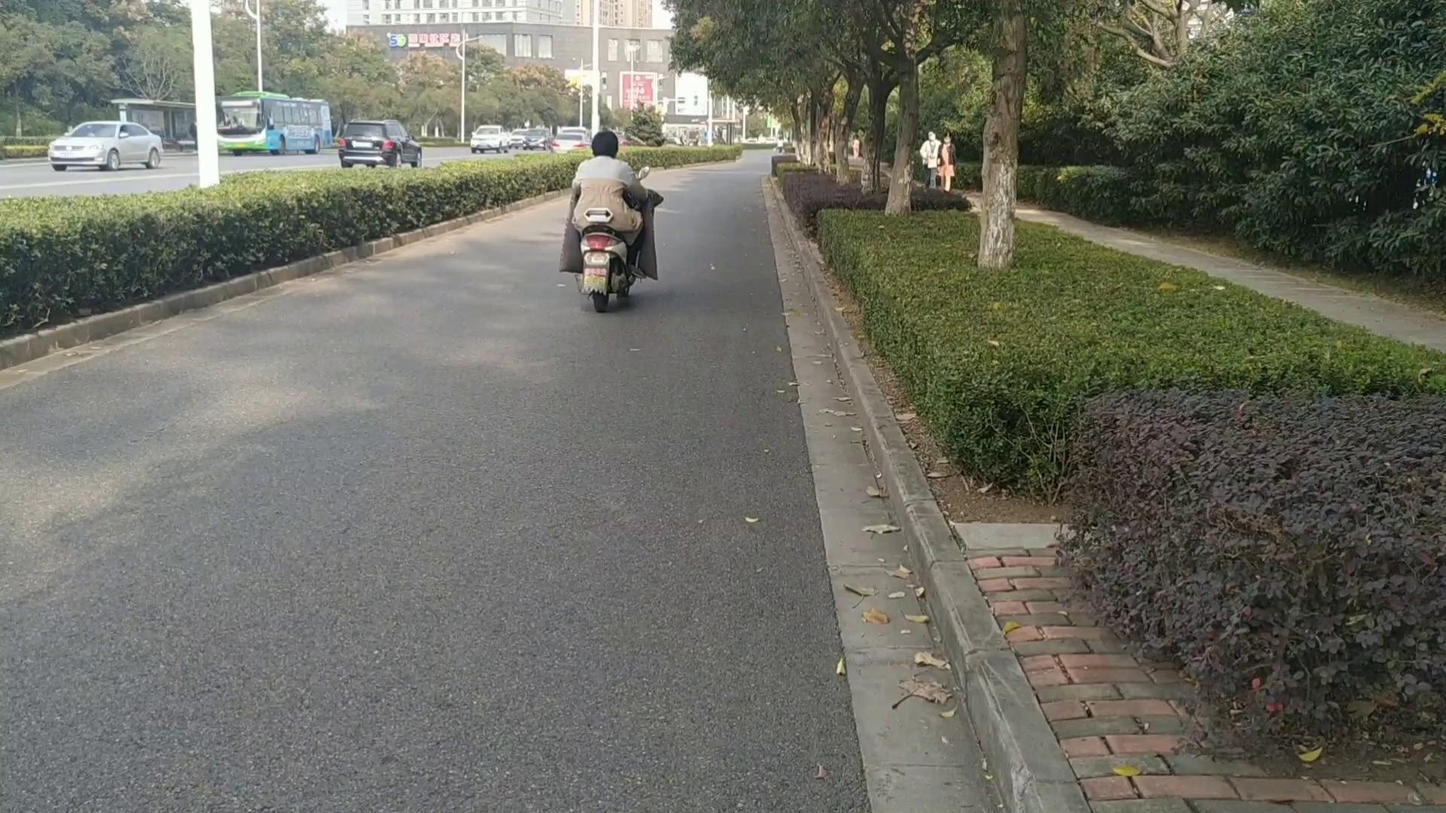car: (47, 120, 165, 172), (336, 119, 423, 169), (469, 126, 511, 155), (554, 125, 592, 154), (514, 129, 552, 152), (503, 129, 532, 154)
